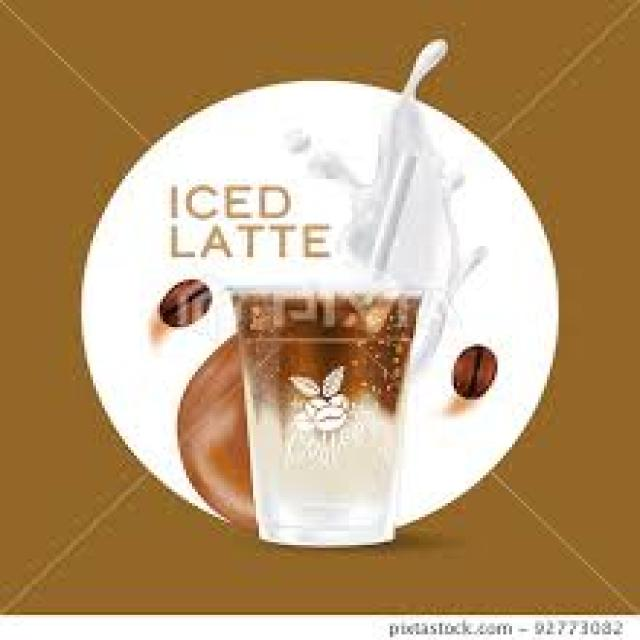bottle: (236, 292, 420, 546)
